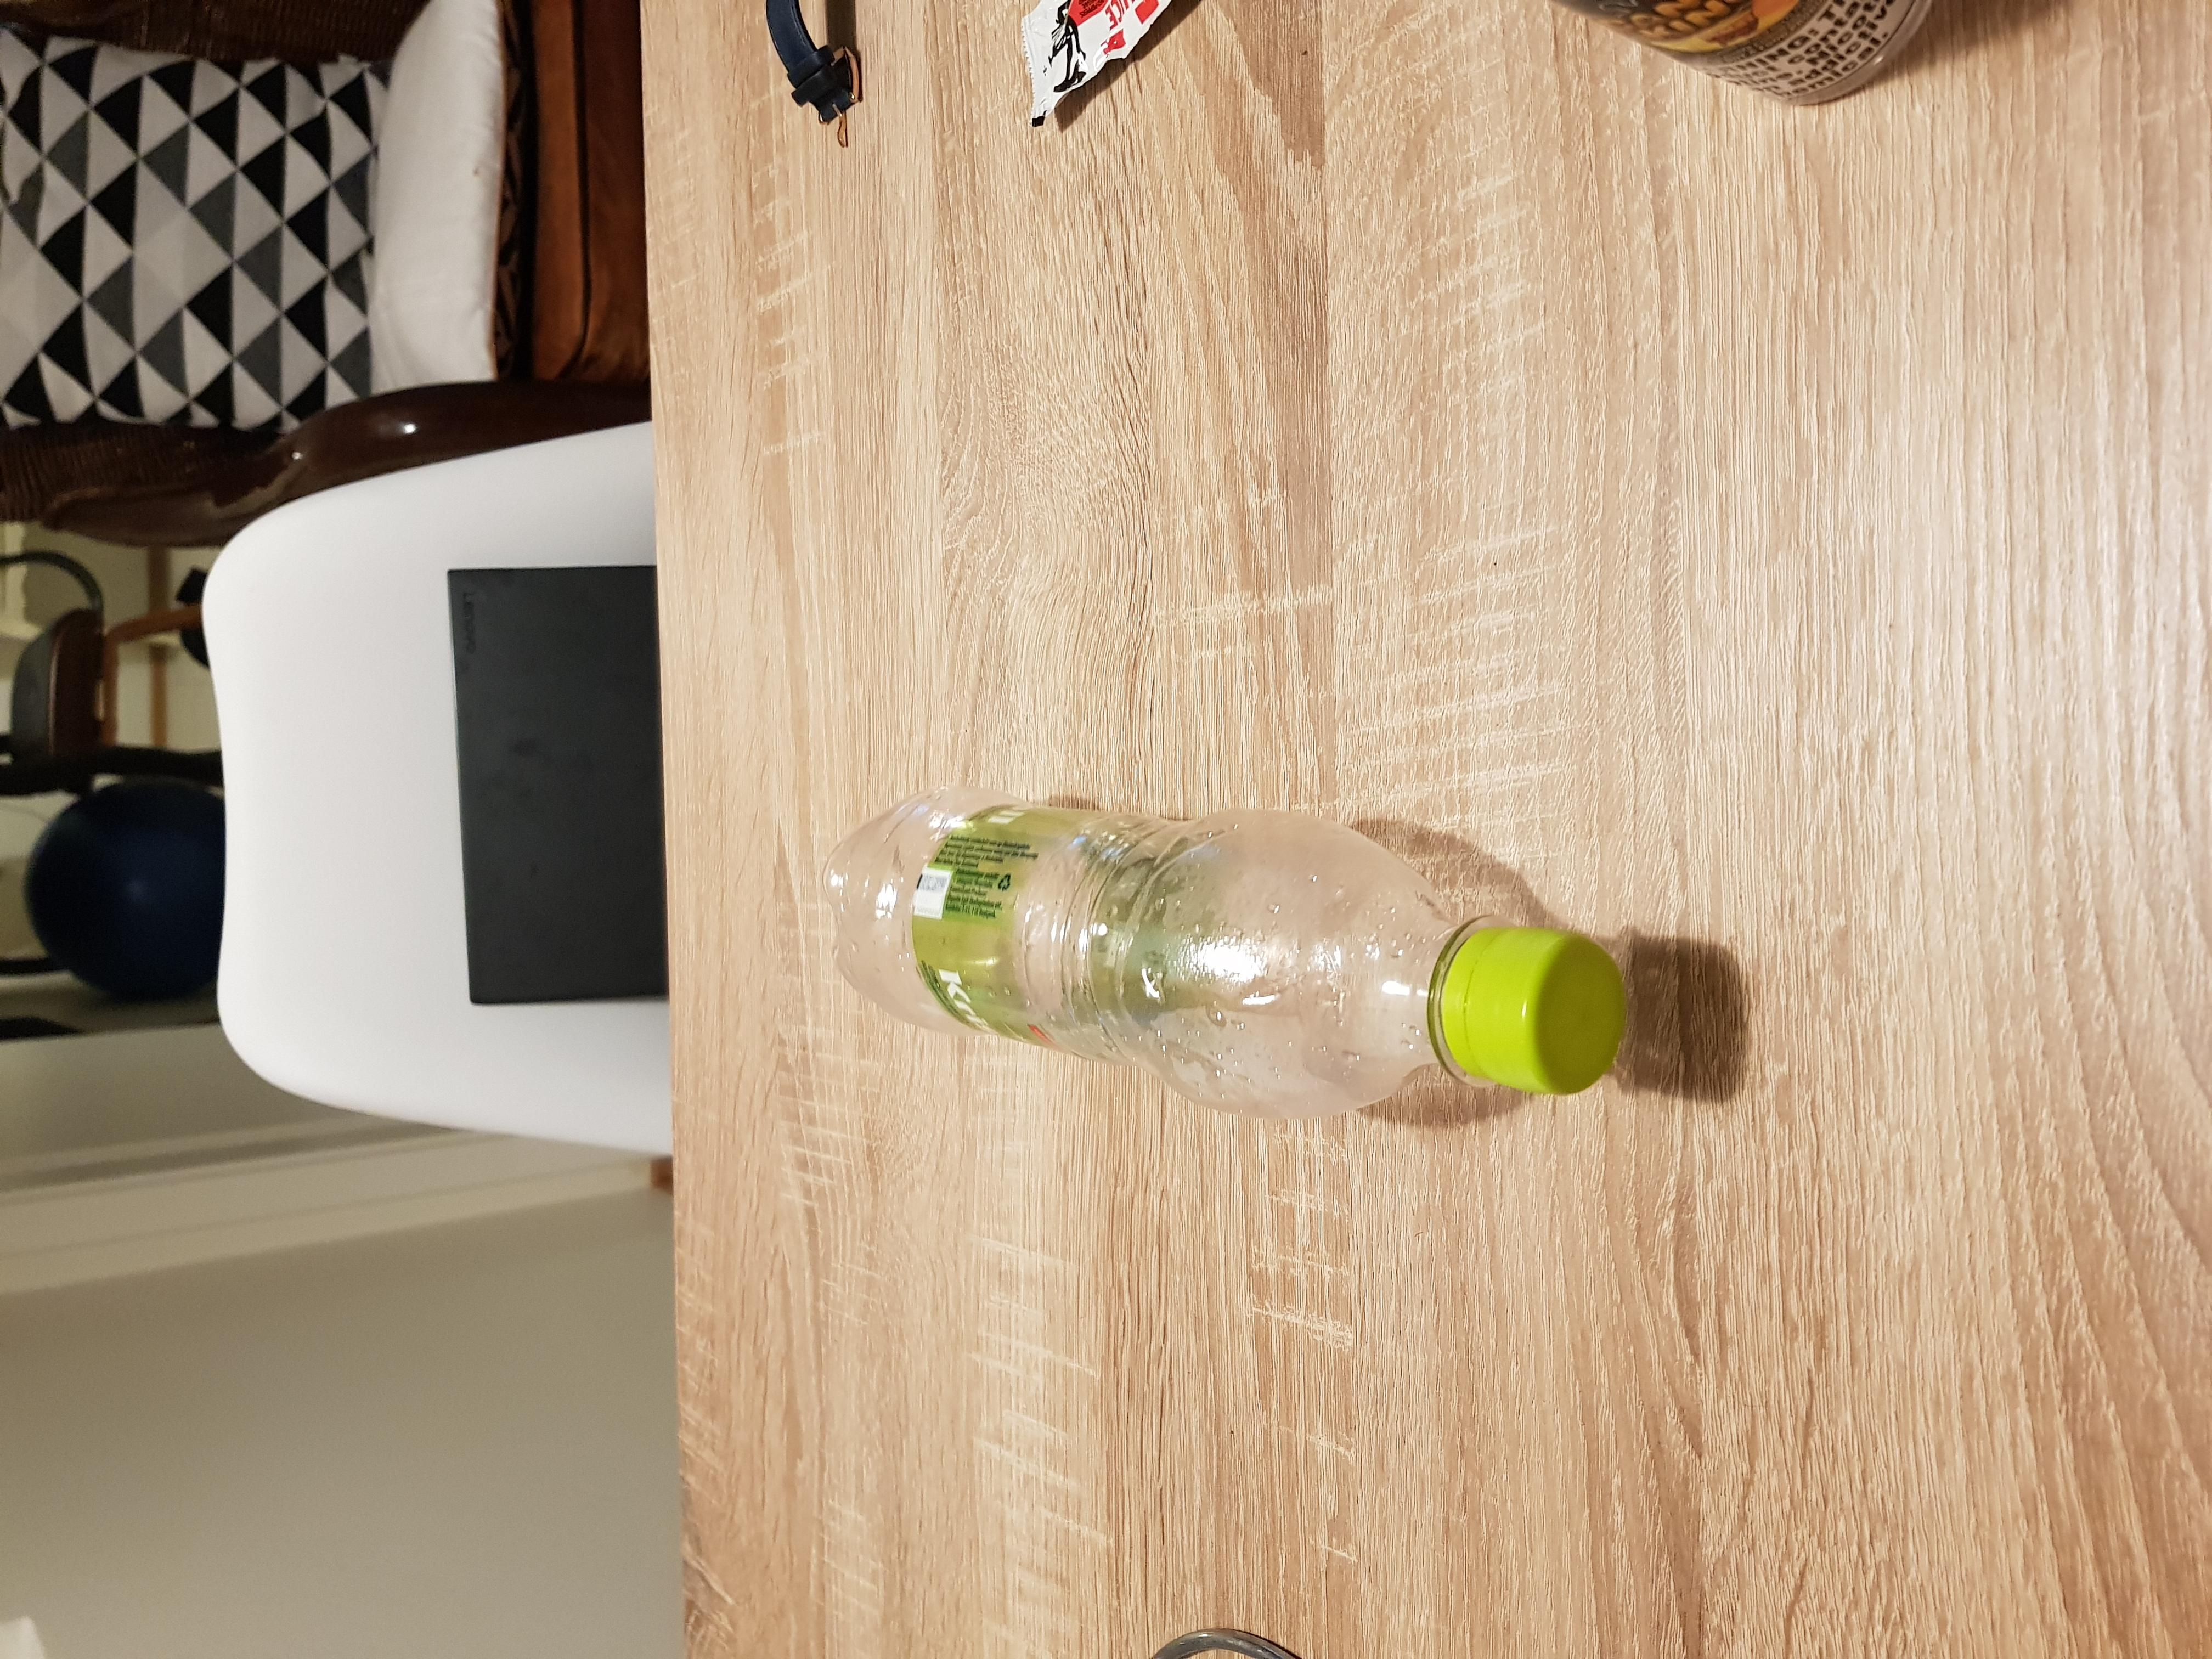bottle: (812, 775, 1632, 1112)
